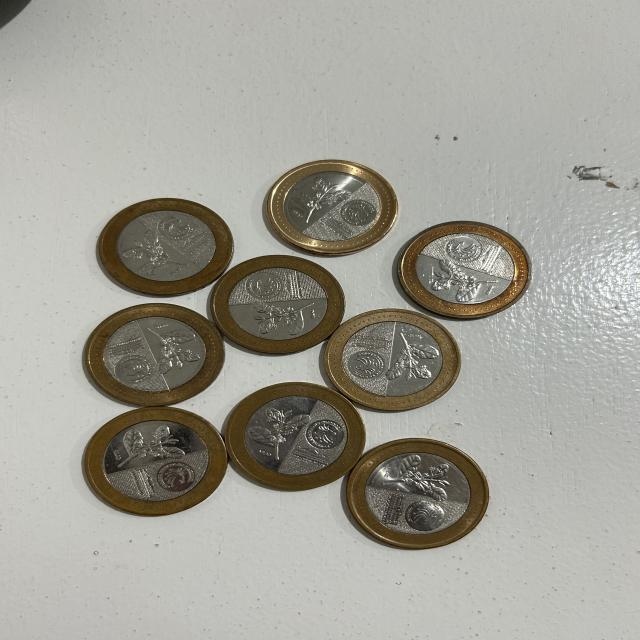20_New_Back: (248, 402, 328, 464), (381, 323, 446, 394), (106, 418, 187, 472)
